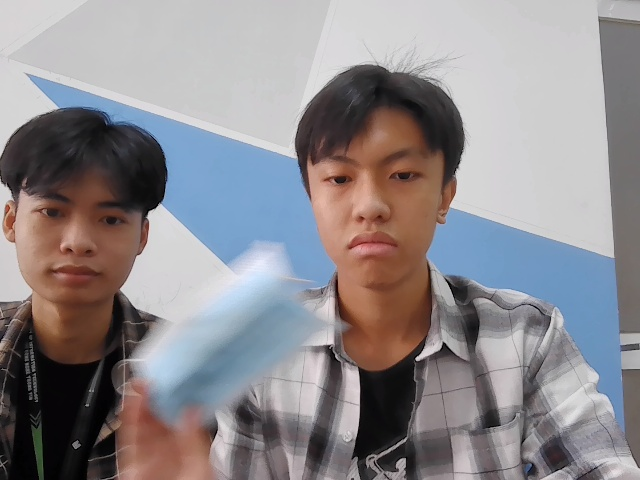human: (296, 62, 467, 281), (4, 105, 160, 303)
